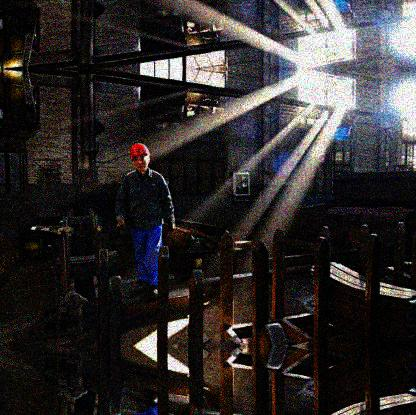helmet: (129, 143, 150, 176)
